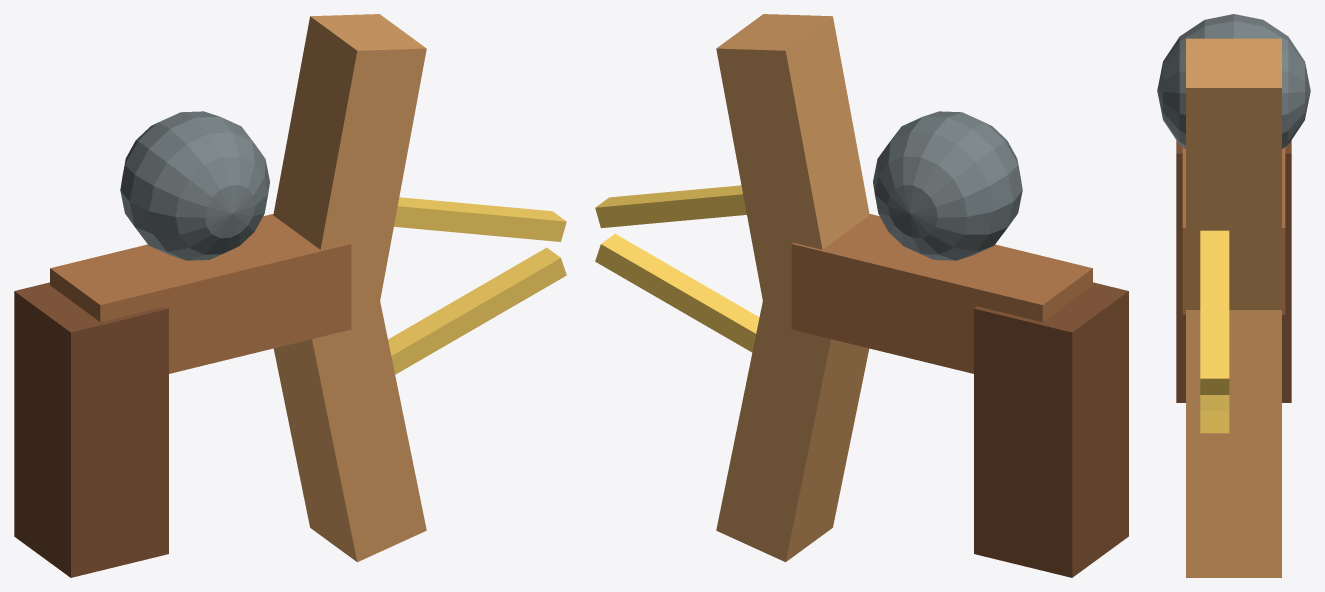
File: bp_weaponpebble.glb
3 views of the same model, side by side, from view 1: azimuth 30°, elevation 25°; view 2: azimuth 150°, elevation 25°; view 3: azimuth 270°, elevation 25° (orthographic).
Parts seen in each view (by area): view 1: Grip, Fork.001, Brace, Fork, Ammo, Elastic, Elastic.001; view 2: Grip, Fork.001, Brace, Fork, Ammo, Elastic, Elastic.001; view 3: Fork.001, Fork, Ammo, Elastic.001, Grip, Brace, Elastic.
Part boxes in pixels (<box>): Grip: <box>14,282,168,577</box>; Fork.001: <box>273,14,426,330</box>; Brace: <box>50,214,351,373</box>; Fork: <box>273,275,426,562</box>; Ammo: <box>120,111,269,260</box>; Elastic: <box>388,247,566,374</box>; Elastic.001: <box>394,197,566,241</box>; Grip: <box>974,282,1128,577</box>; Fork.001: <box>716,14,869,330</box>; Brace: <box>791,213,1092,373</box>; Fork: <box>716,275,869,562</box>; Ammo: <box>873,111,1022,260</box>; Elastic: <box>595,234,759,352</box>; Elastic.001: <box>595,185,746,228</box>; Fork.001: <box>1186,38,1281,309</box>; Fork: <box>1186,310,1281,577</box>; Ammo: <box>1157,14,1310,148</box>; Elastic.001: <box>1200,230,1229,394</box>; Grip: <box>1176,140,1291,402</box>; Brace: <box>1182,147,1285,314</box>; Elastic: <box>1200,395,1229,433</box>.
Size of the model in its own units: 0.931 by 0.8963 by 0.24.
